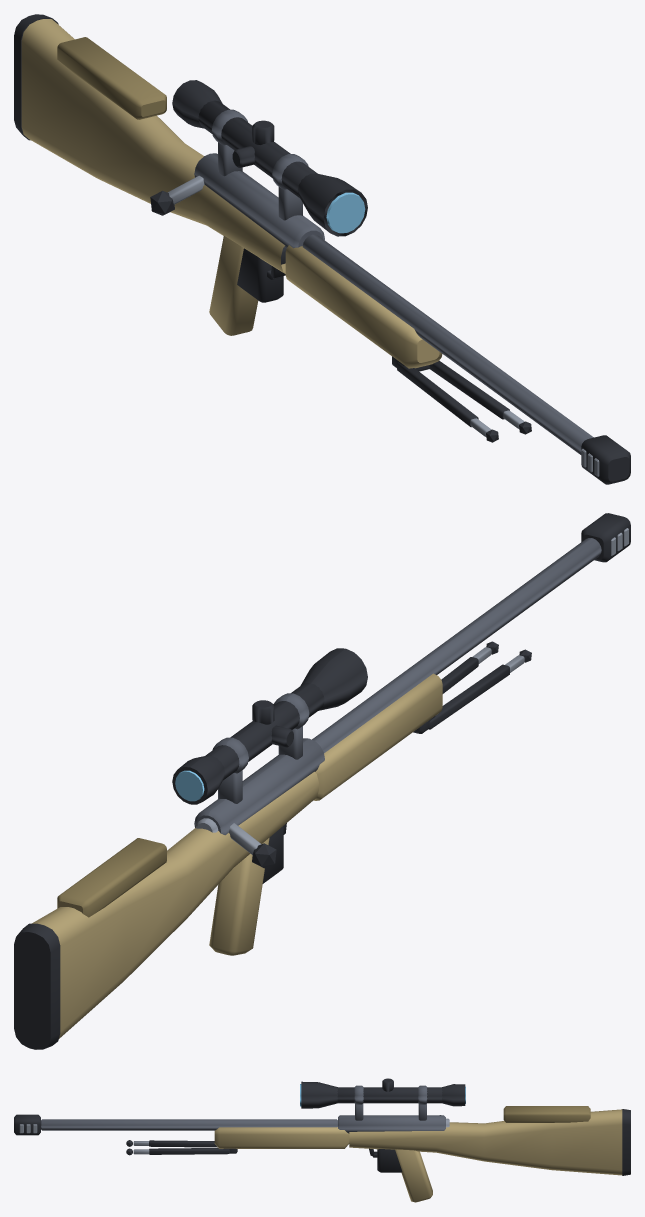
The model's file is sniper.glb.
3 views of the same model, one above another, from view 1: azimuth 30°, elevation 25°; view 2: azimuth 150°, elevation 25°; view 3: azimuth 270°, elevation 25° (orthographic). The views are drawn at different scales.
Parts seen in each view (by area): view 1: corps, chargeur, bipied_d, bipied_g, culasse; view 2: corps, bipied_d, culasse, bipied_g; view 3: corps, bipied_g, bipied_d, chargeur.
Part boxes in pixels (box(x1,y1,x2,y2)): corps: box(14, 14, 630, 484); chargeur: box(237, 248, 283, 302); bipied_d: box(397, 362, 498, 442); bipied_g: box(429, 360, 531, 434); culasse: box(150, 160, 204, 215); corps: box(14, 513, 630, 1049); bipied_d: box(428, 649, 531, 729); culasse: box(196, 818, 276, 868); bipied_g: box(441, 641, 498, 693); corps: box(14, 1078, 630, 1202); bipied_g: box(126, 1148, 229, 1155); bipied_d: box(126, 1140, 217, 1147); chargeur: box(377, 1149, 402, 1172).
Size of the model in its own units: 0.1056 by 0.2752 by 1.28.
